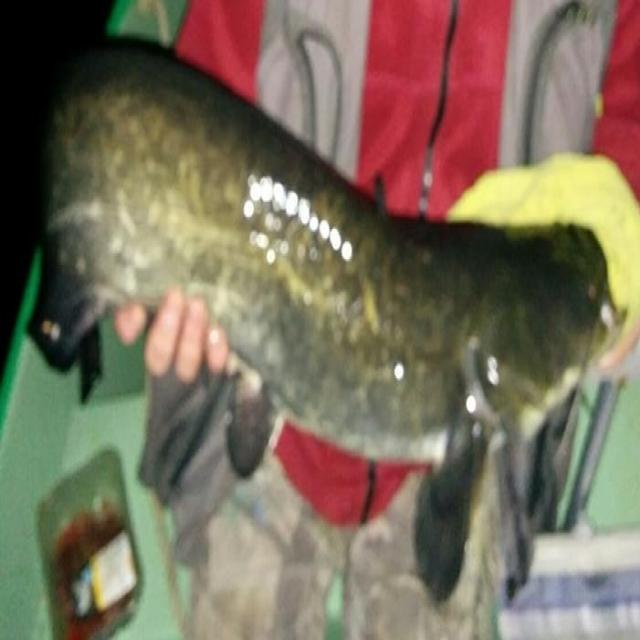Catfish: (27, 36, 621, 608)
